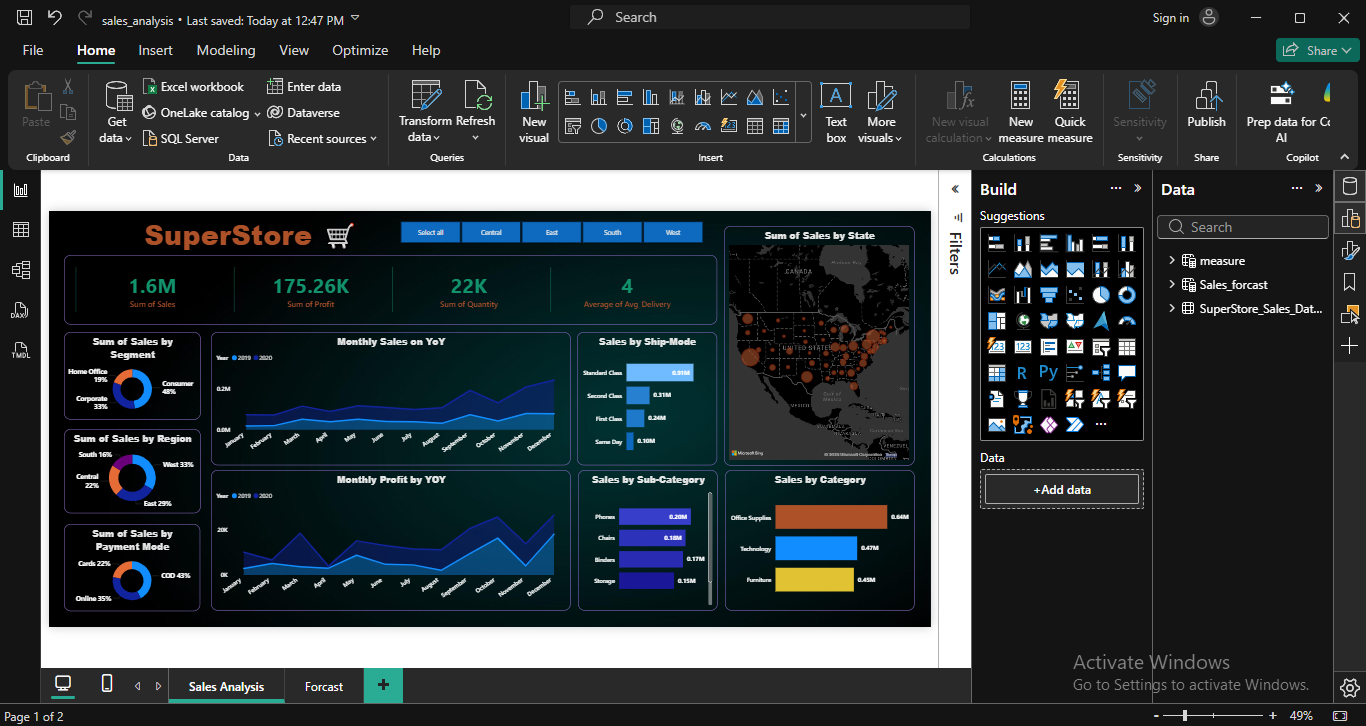

This screenshot's page, from the dashboard's own definition file:
{"tool":"powerbi","page":{"name":"Sales Analysis","canvas":[1800,850],"ordinal":0},"visuals":[{"type":"clusteredBarChart","title":"Sales by Sub-Category","fields":{"Y":["Sum(SuperStore_Sales_Dataset.Sales)"],"Category":["SuperStore_Sales_Dataset.Sub-Category"]},"box":[1078.7,527.7,285.1,287.2],"z":0},{"type":"clusteredBarChart","title":"Sales by Ship-Mode","fields":{"Y":["Sum(SuperStore_Sales_Dataset.Sales)"],"Category":["SuperStore_Sales_Dataset.Ship Mode"]},"box":[1077.8,247.2,286.1,272.2],"z":1000},{"type":"clusteredBarChart","title":"Sales by Category","fields":{"Category":["SuperStore_Sales_Dataset.Category"],"Y":["Sum(SuperStore_Sales_Dataset.Sales)"]},"box":[1378.7,527.7,387.2,287.2],"z":2000},{"type":"stackedAreaChart","title":"Monthly Sales on YoY","fields":{"Y":["Sum(SuperStore_Sales_Dataset.Sales)"],"Series":["SuperStore_Sales_Dataset.Order Date.Variation.Date Hierarchy.Year"],"Category":["SuperStore_Sales_Dataset.Order Date.Variation.Date Hierarchy.Month","SuperStore_Sales_Dataset.Order Date.Variation.Date Hierarchy.Day"]},"box":[329.8,246.8,734,272.3],"z":3000},{"type":"stackedAreaChart","title":"Monthly Profit by YOY","fields":{"Series":["SuperStore_Sales_Dataset.Order Date.Variation.Date Hierarchy.Year"],"Category":["SuperStore_Sales_Dataset.Order Date.Variation.Date Hierarchy.Month","SuperStore_Sales_Dataset.Order Date.Variation.Date Hierarchy.Day"],"Y":["Sum(SuperStore_Sales_Dataset.Profit)"]},"box":[329.8,527.7,734,287.2],"z":4000},{"type":"map","fields":{"Category":["SuperStore_Sales_Dataset.State"],"Size":["Sum(SuperStore_Sales_Dataset.Sales)"]},"box":[1377.8,30.6,388.9,488.9],"z":5000},{"type":"donutChart","fields":{"Category":["SuperStore_Sales_Dataset.Segment"],"Y":["Sum(SuperStore_Sales_Dataset.Sales)"]},"box":[29.8,246.8,278.7,178.7],"z":6000},{"type":"donutChart","fields":{"Y":["Sum(SuperStore_Sales_Dataset.Sales)"],"Category":["SuperStore_Sales_Dataset.Region"]},"box":[29.8,444.7,278.7,172.3],"z":7000},{"type":"donutChart","fields":{"Y":["Sum(SuperStore_Sales_Dataset.Sales)"],"Category":["SuperStore_Sales_Dataset.Payment Mode"]},"box":[30.6,638.8,277.6,177.6],"z":8000},{"type":"card","fields":{"Values":["measure.Name"]},"box":[151.1,0,525.5,89.4],"z":9000},{"type":"cardVisual","fields":{"Data":["Sum(SuperStore_Sales_Dataset.Sales)","Sum(SuperStore_Sales_Dataset.Profit)","Sum(SuperStore_Sales_Dataset.Quantity)","Avg(SuperStore_Sales_Dataset.Avg_Delivery)"]},"box":[30.6,88.9,1333.3,141.7],"z":10000},{"type":"slicer","fields":{"Values":["SuperStore_Sales_Dataset.Region"]},"box":[691.7,13.9,666.7,58.3],"z":11000}]}

Visuals, with their boxes on the page's 1800x850 design canvas (x1, y1, x2, y2). These are canvas units, not pixel positions in the 1366x726 screenshot, which may show the page scaled, cropped or inside an application window:
"Sales by Sub-Category" clusteredBarChart: <box>1079,528,1364,815</box>
"Sales by Ship-Mode" clusteredBarChart: <box>1078,247,1364,519</box>
"Sales by Category" clusteredBarChart: <box>1379,528,1766,815</box>
"Monthly Sales on YoY" stackedAreaChart: <box>330,247,1064,519</box>
"Monthly Profit by YOY" stackedAreaChart: <box>330,528,1064,815</box>
map - SuperStore_Sales_Dataset.State x Sum(SuperStore_Sales_Dataset.Sales): <box>1378,31,1767,520</box>
donutChart - SuperStore_Sales_Dataset.Segment x Sum(SuperStore_Sales_Dataset.Sales): <box>30,247,308,426</box>
donutChart - Sum(SuperStore_Sales_Dataset.Sales) x SuperStore_Sales_Dataset.Region: <box>30,445,308,617</box>
donutChart - Sum(SuperStore_Sales_Dataset.Sales) x SuperStore_Sales_Dataset.Payment Mode: <box>31,639,308,816</box>
card - measure.Name: <box>151,0,677,89</box>
cardVisual - Sum(SuperStore_Sales_Dataset.Sales) x Sum(SuperStore_Sales_Dataset.Profit): <box>31,89,1364,231</box>
slicer - SuperStore_Sales_Dataset.Region: <box>692,14,1358,72</box>
